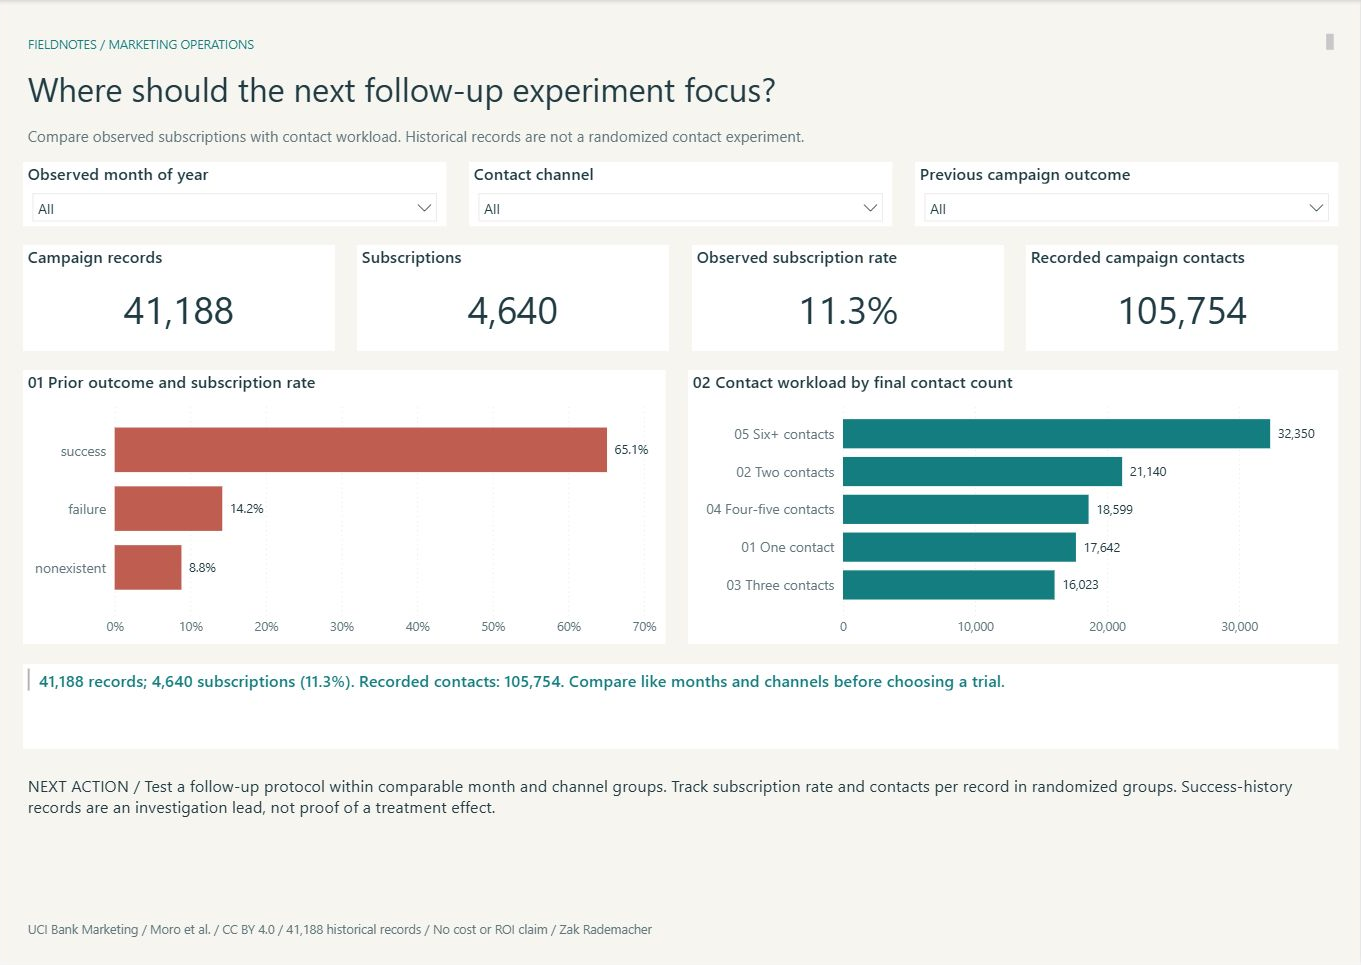

The dashboard page shown, as its layout file describes it:
{"tool":"powerbi","page":{"name":"01  Campaign review","canvas":[1440,1000],"ordinal":0},"visuals":[{"type":"textbox","box":[24,10,1392,28],"z":0},{"type":"textbox","box":[24,44,1392,58],"z":0},{"type":"textbox","box":[24,107,1392,36],"z":0},{"type":"slicer","title":"Observed month of year","fields":{"Values":["Months.Month"]},"box":[24,150,448,68],"z":0},{"type":"slicer","title":"Contact channel","fields":{"Values":["Channels.Channel"]},"box":[496,150,448,68],"z":0},{"type":"slicer","title":"Previous campaign outcome","fields":{"Values":["Outcomes.Previous Outcome"]},"box":[968,150,448,68],"z":0},{"type":"card","title":"Campaign records","fields":{"Values":["Campaigns.Records"]},"box":[24,238,330,112],"z":0},{"type":"card","title":"Subscriptions","fields":{"Values":["Campaigns.Subscriptions"]},"box":[378,238,330,112],"z":0},{"type":"card","title":"Observed subscription rate","fields":{"Values":["Campaigns.Subscription Rate"]},"box":[732,238,330,112],"z":0},{"type":"card","title":"Recorded campaign contacts","fields":{"Values":["Campaigns.Recorded Contacts"]},"box":[1086,238,330,112],"z":0},{"type":"clusteredBarChart","title":"01  Prior outcome and subscription rate","fields":{"Category":["Outcomes.Previous Outcome"],"Y":["Campaigns.Subscription Rate"]},"box":[24,370,680,290],"z":0},{"type":"clusteredBarChart","title":"02  Contact workload by final contact count","fields":{"Category":["ContactBands.Contact Band"],"Y":["Campaigns.Recorded Contacts"]},"box":[728,370,688,290],"z":0},{"type":"multiRowCard","fields":{"Values":["Campaigns.Selection Finding"]},"box":[24,682,1392,90],"z":0},{"type":"textbox","box":[24,793,1392,95],"z":0},{"type":"textbox","box":[24,946,1392,38],"z":0}]}

Visuals, with their boxes in screenshot pixels (x1, y1, x2, y2), scaled from the page's 1440x1000 canvas onto the 1361x965 screenshot:
textbox: x1=23, y1=10, x2=1338, y2=37
textbox: x1=23, y1=42, x2=1338, y2=98
textbox: x1=23, y1=103, x2=1338, y2=138
"Observed month of year" slicer: x1=23, y1=145, x2=446, y2=210
"Contact channel" slicer: x1=469, y1=145, x2=892, y2=210
"Previous campaign outcome" slicer: x1=915, y1=145, x2=1338, y2=210
"Campaign records" card: x1=23, y1=230, x2=335, y2=338
"Subscriptions" card: x1=357, y1=230, x2=669, y2=338
"Observed subscription rate" card: x1=692, y1=230, x2=1004, y2=338
"Recorded campaign contacts" card: x1=1026, y1=230, x2=1338, y2=338
"01  Prior outcome and subscription rate" clusteredBarChart: x1=23, y1=357, x2=665, y2=637
"02  Contact workload by final contact count" clusteredBarChart: x1=688, y1=357, x2=1338, y2=637
multiRowCard - Campaigns.Selection Finding: x1=23, y1=658, x2=1338, y2=745
textbox: x1=23, y1=765, x2=1338, y2=857
textbox: x1=23, y1=913, x2=1338, y2=950
